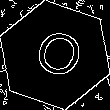O_S: (25, 24, 85, 86)
